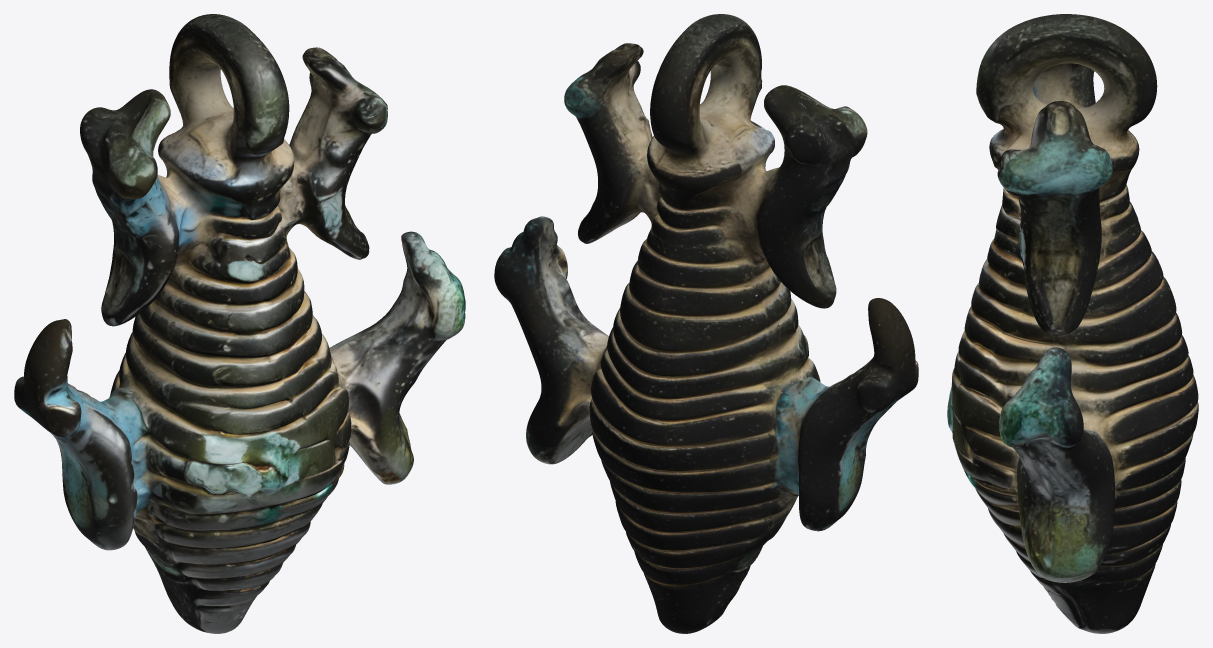
File: 037-zoomorfnyy-bronzovyy-amulet.glb
The picture shows the model from 3 angles, left to right: view 1: azimuth 30°, elevation 25°; view 2: azimuth 150°, elevation 25°; view 3: azimuth 270°, elevation 25°; orthographic projection. The views are drawn at different scales.
Visible parts, largest first — view 1: node_0; view 2: node_0; view 3: node_0.
Part boxes in pixels (box(x1,y1,x2,y2)): node_0: box(14, 14, 465, 633); node_0: box(494, 14, 918, 633); node_0: box(947, 14, 1198, 633).
Bounding box in the file's own units: 0.8502 × 1.19 × 0.4432.
1 material, 1 textured.
